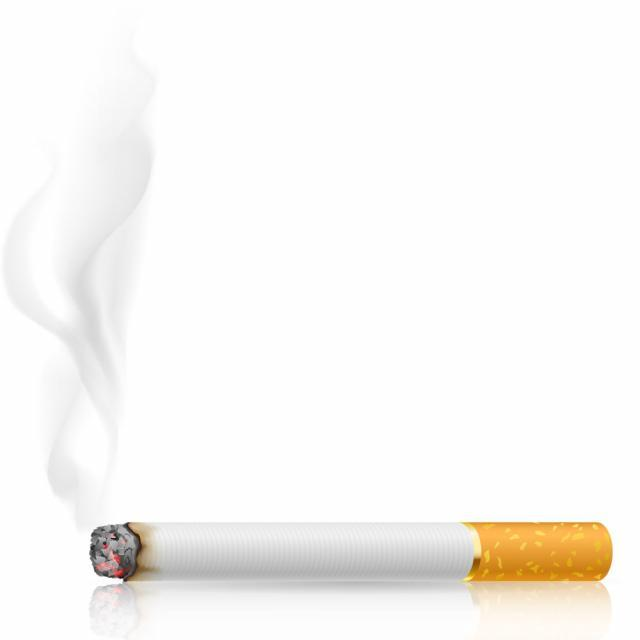cigarette: (87, 498, 616, 592)
